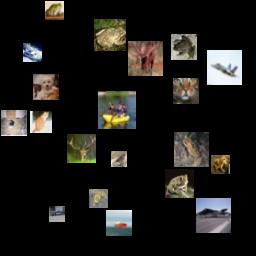airplane: (207, 50, 242, 85), (196, 198, 231, 233)
automobile: (49, 206, 65, 222)
bird: (111, 151, 127, 167)
cat: (173, 78, 199, 104), (1, 110, 27, 136), (30, 111, 52, 133)
deer: (128, 41, 163, 76), (67, 134, 96, 163)
dog: (33, 74, 59, 100)
frog: (174, 132, 209, 167), (94, 19, 126, 51), (165, 169, 194, 198), (171, 34, 197, 60), (211, 155, 230, 174), (89, 189, 108, 208), (45, 1, 64, 20)
ship: (98, 91, 136, 129), (106, 210, 132, 236), (23, 43, 42, 62)
